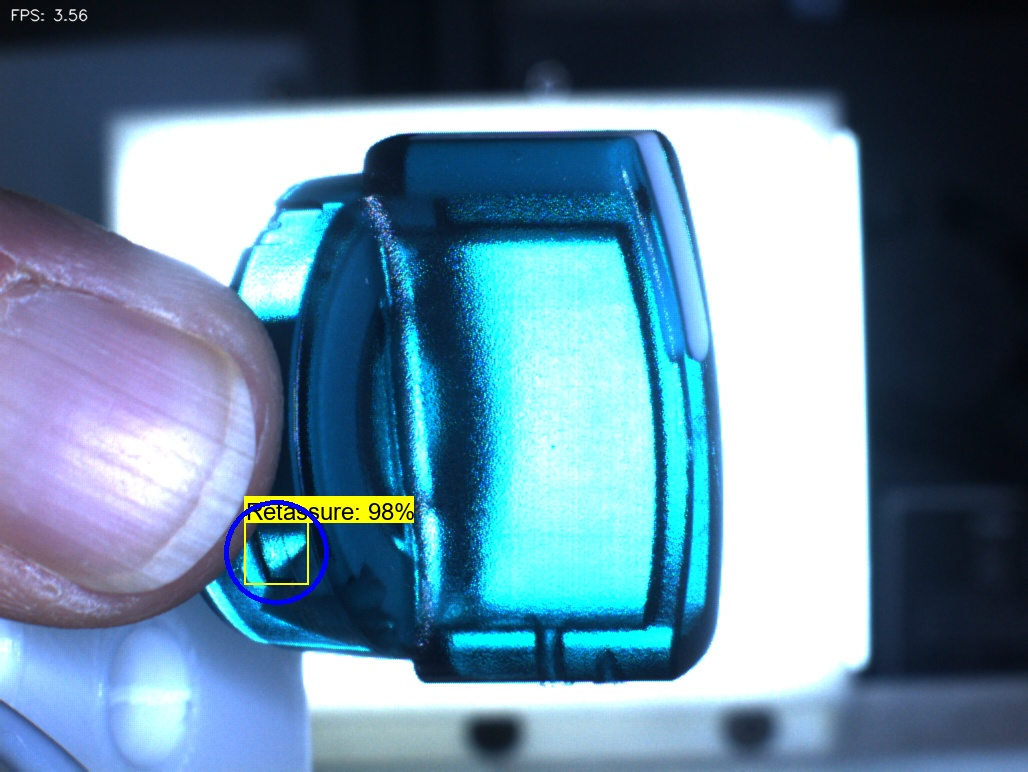Bulle: (513, 600, 602, 698)
